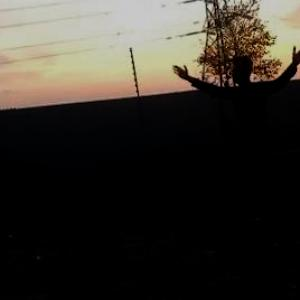takeoff: (178, 46, 299, 217)
